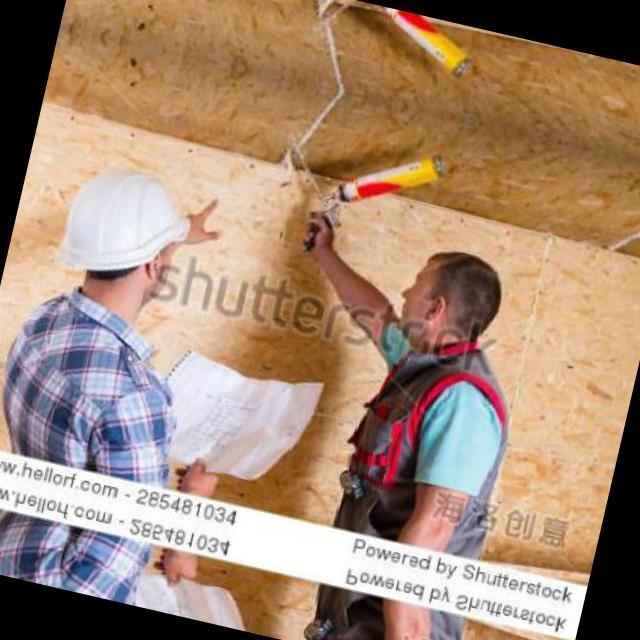helmet: (41, 152, 202, 326)
